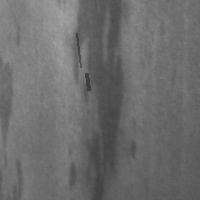inclusion: (67, 1, 133, 197), (1, 56, 21, 166), (122, 108, 142, 168), (7, 155, 28, 200), (10, 18, 25, 50), (74, 31, 82, 69), (84, 71, 90, 92)
